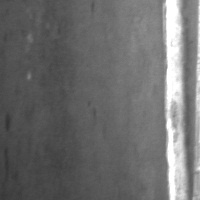scratches: (160, 0, 199, 199)
